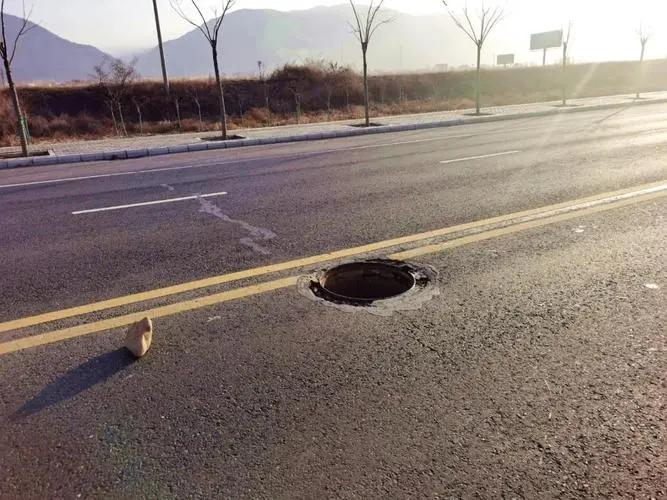wellcover: (301, 249, 437, 313)
